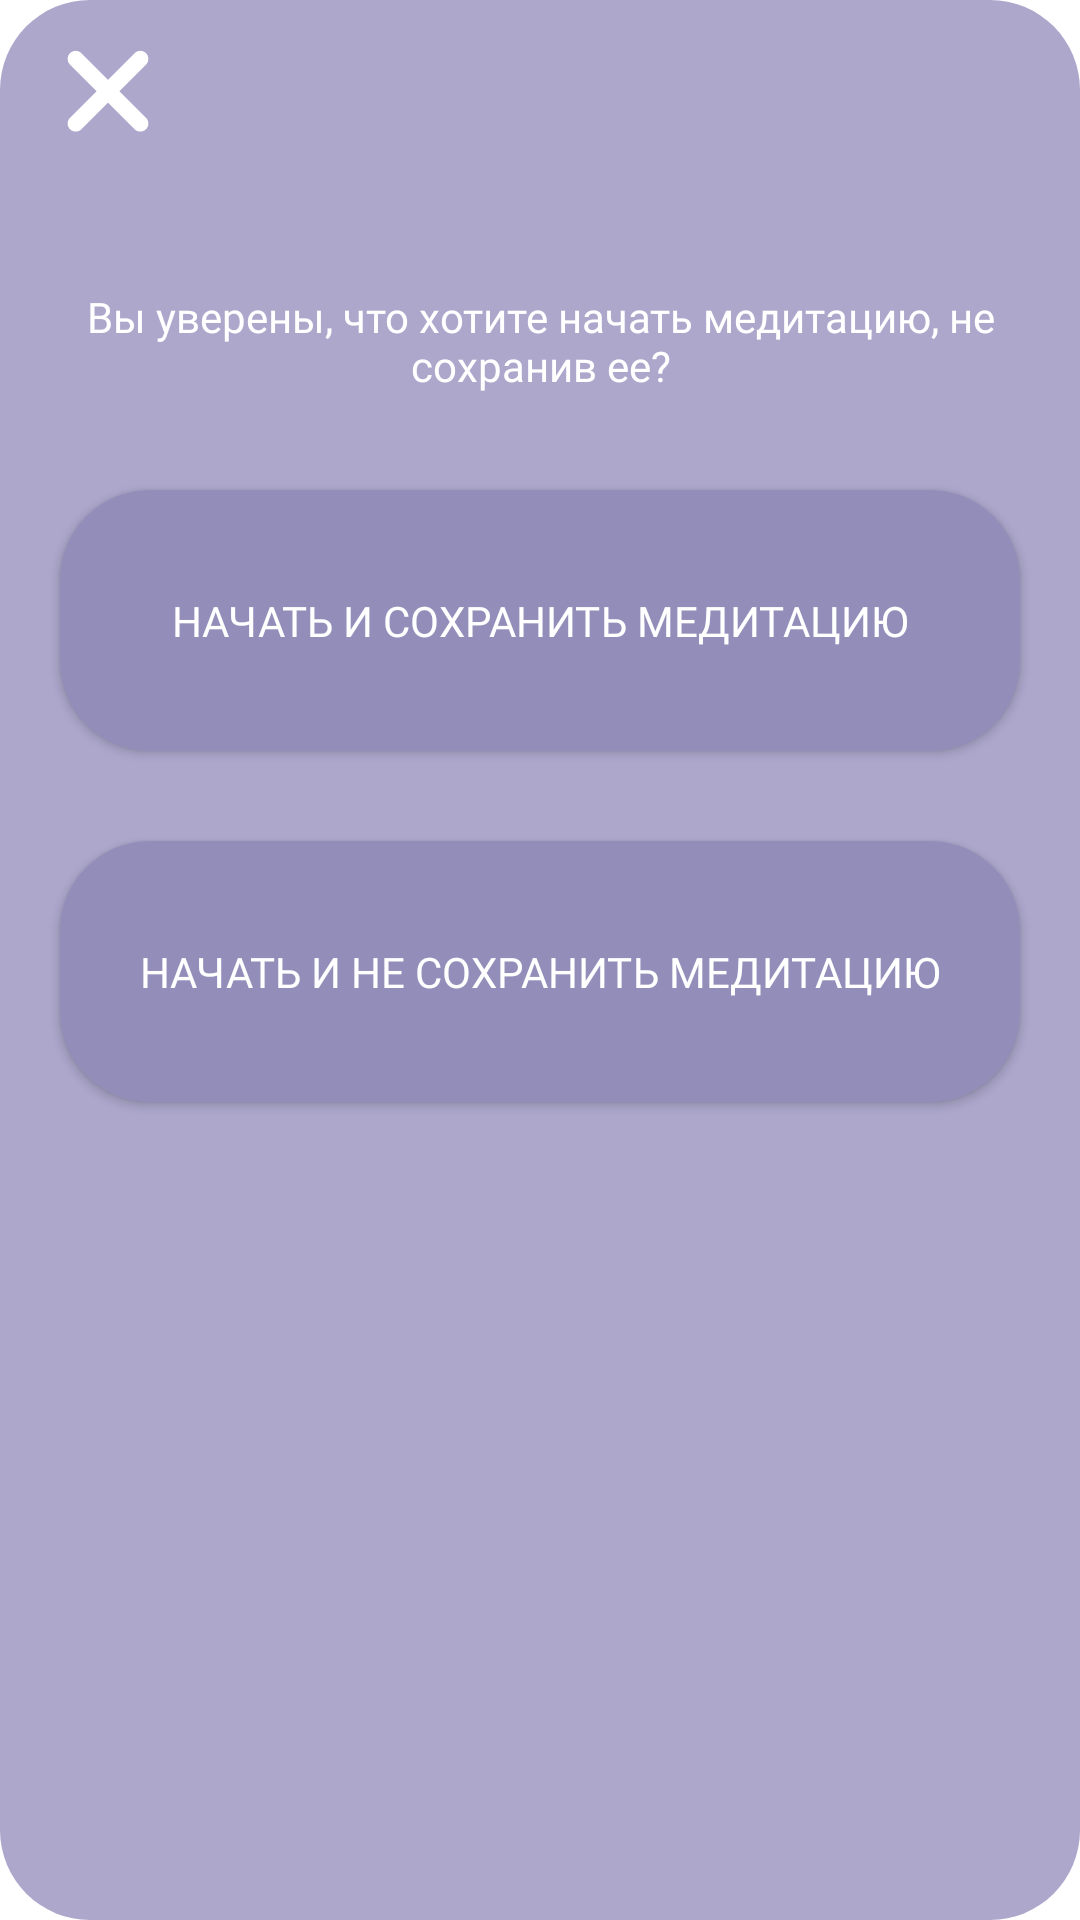

Icons on this 1080×1920 Android screen, each with its box as (x1, y1, x2, y2):
cross: (67, 51, 148, 132)
